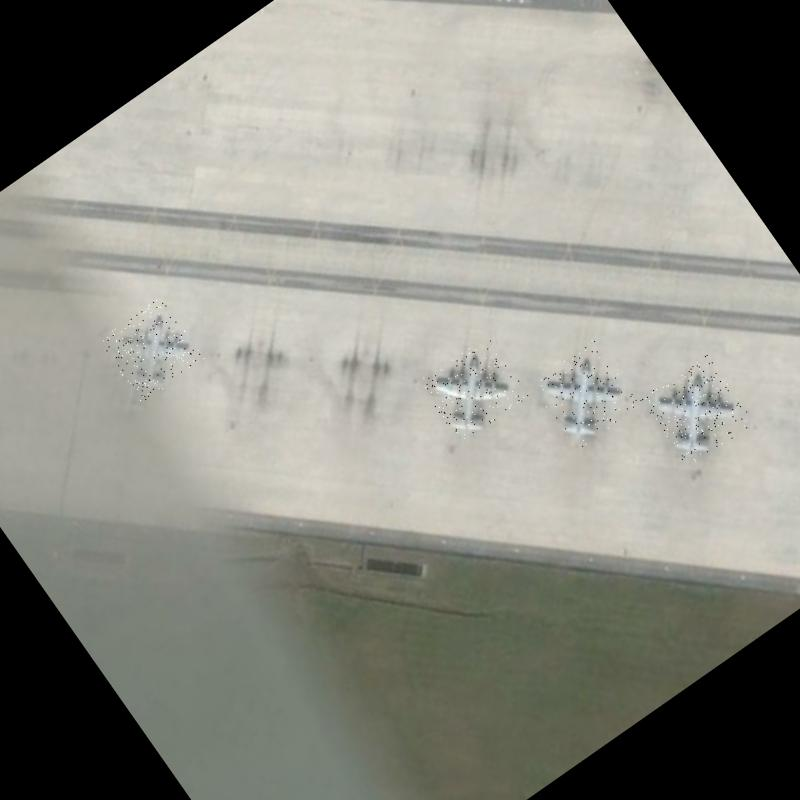A9: (640, 353, 755, 469), (530, 338, 642, 450), (418, 334, 530, 443), (98, 296, 206, 404)
